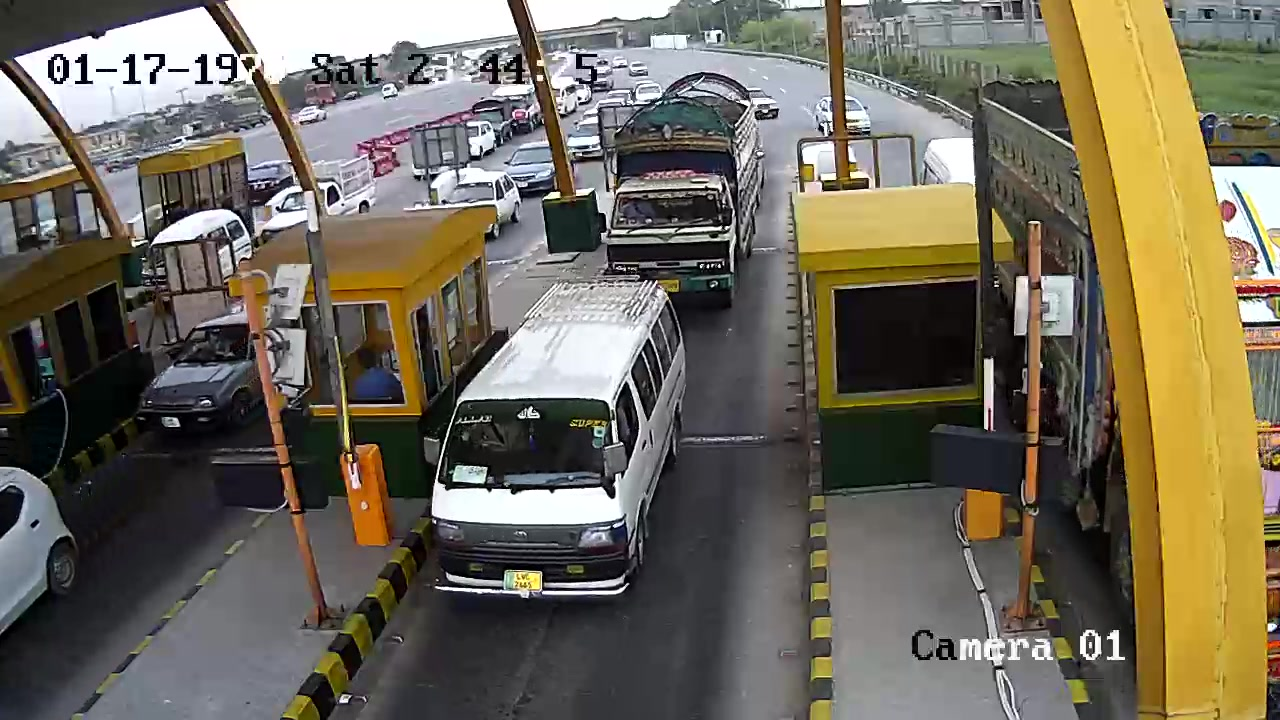F3: (428, 276, 691, 610)
